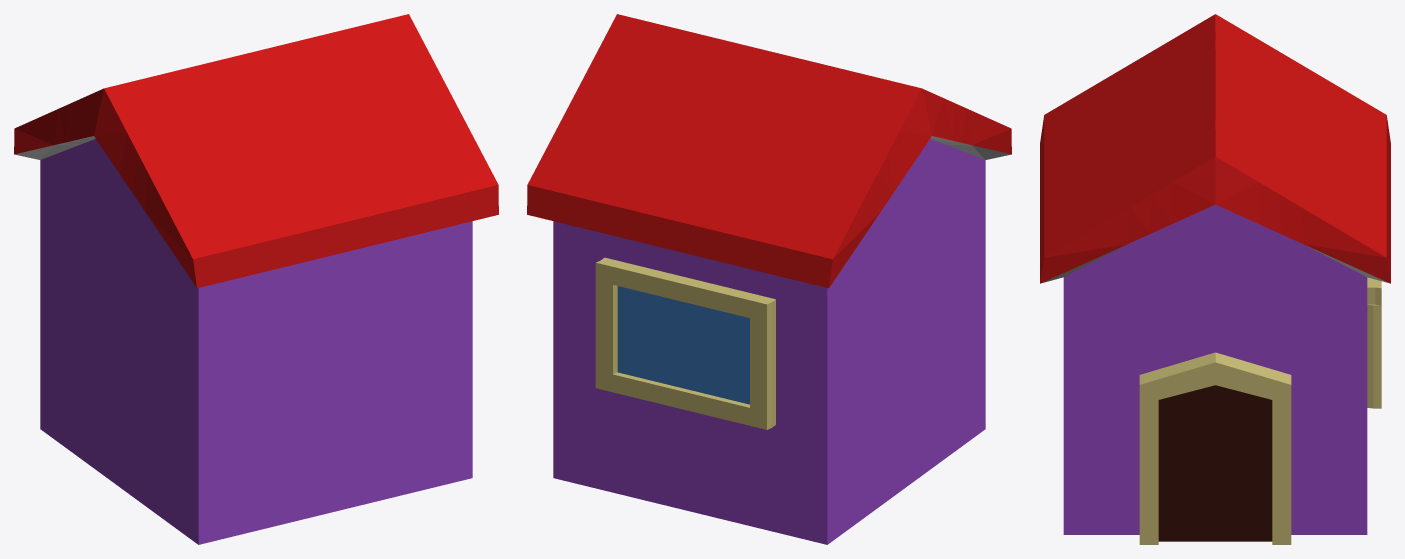
File: house.obj
The picture shows the model from 3 angles, left to right: view 1: azimuth 30°, elevation 25°; view 2: azimuth 150°, elevation 25°; view 3: azimuth 270°, elevation 25°; orthographic projection. The views are drawn at different scales.
Parts seen in each view (by area): view 1: Cube; view 2: Cube; view 3: Cube.
Boxes of the visible parts, <box> form: Cube: <box>14,14,498,544</box>; Cube: <box>527,14,1011,544</box>; Cube: <box>1040,14,1390,544</box>.
Size of the model in its own units: 1.19 by 1.4 by 1.16.
